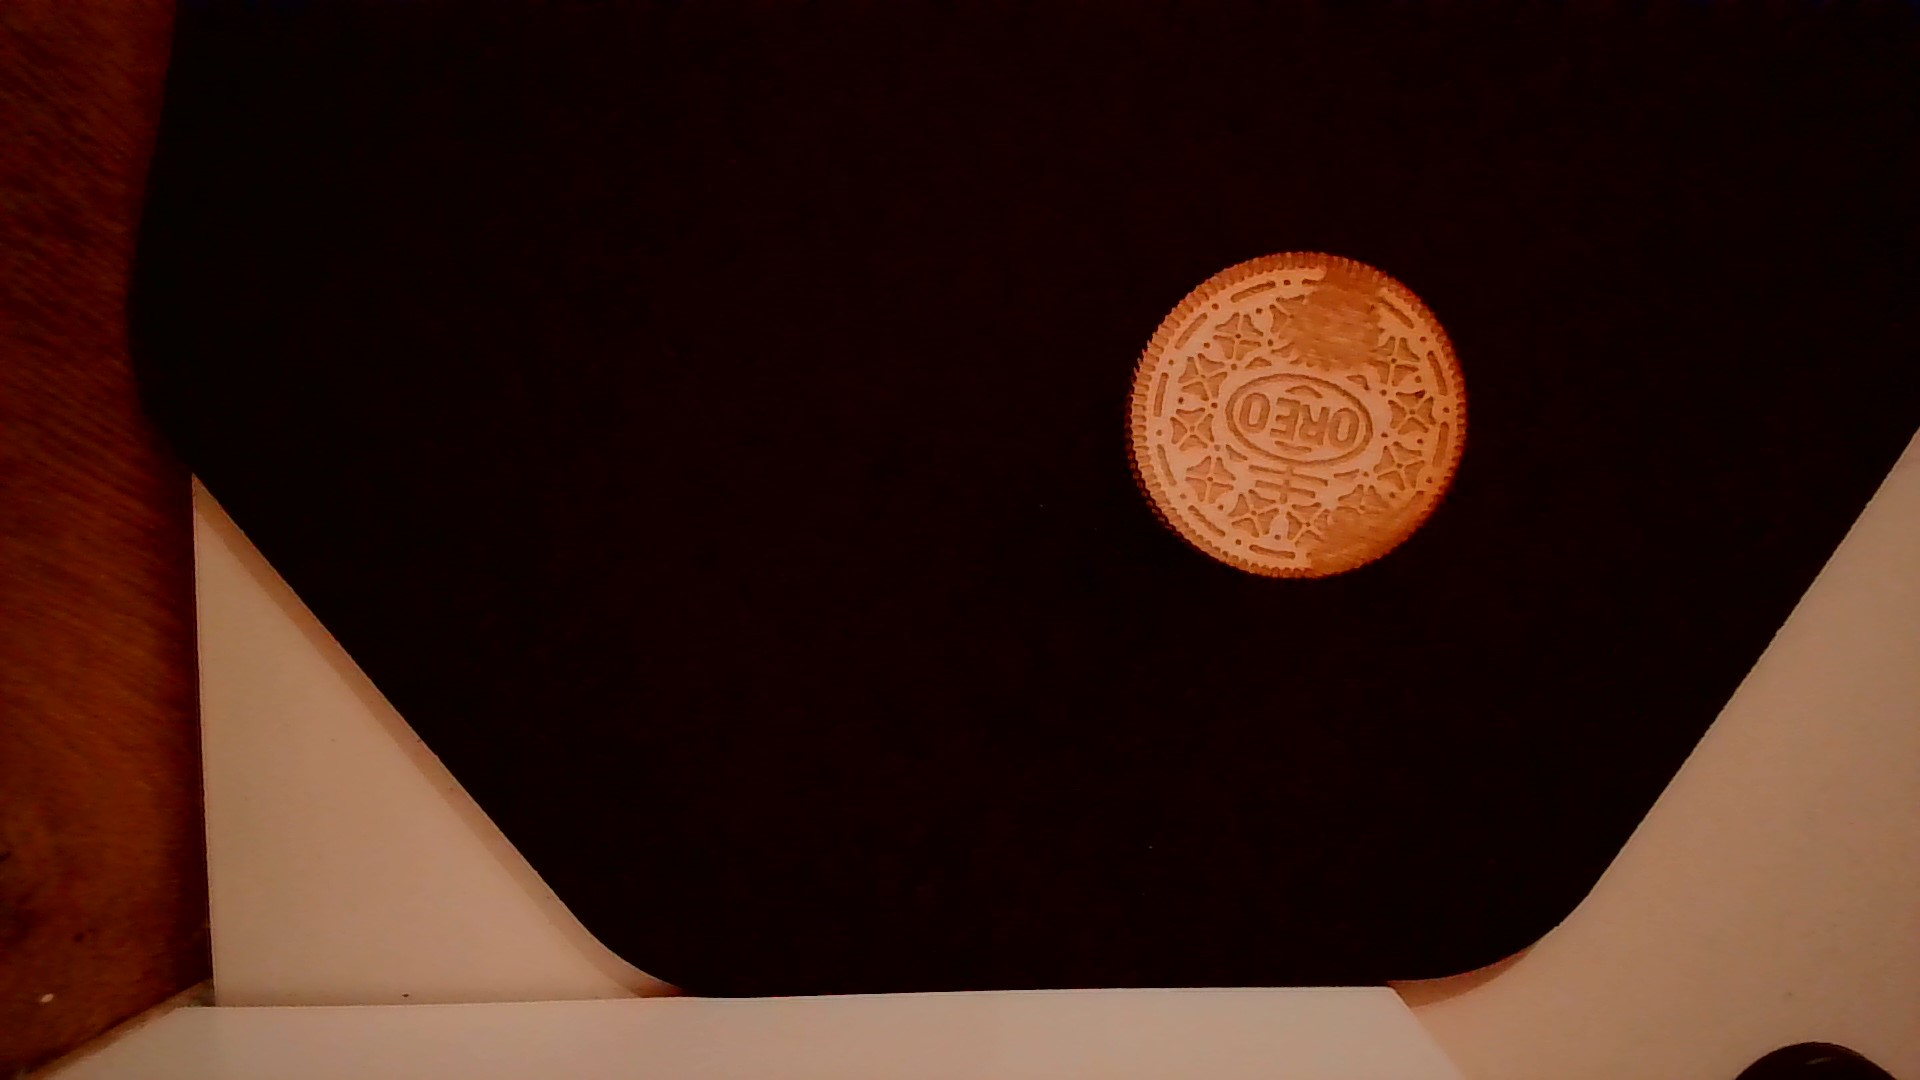Effacé: (1261, 264, 1382, 371), (1304, 475, 1400, 574)
Oréo: (1113, 245, 1478, 583)
